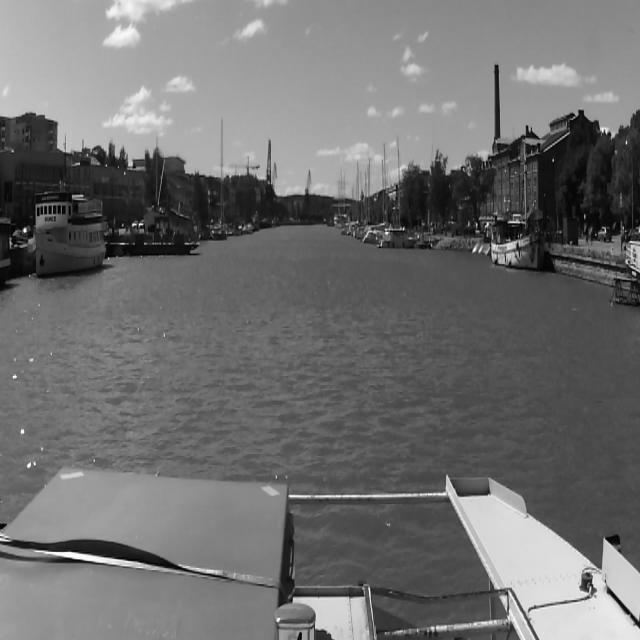ship: (28, 188, 106, 280), (490, 143, 544, 272), (108, 213, 201, 258), (212, 116, 228, 241), (140, 228, 206, 256), (380, 228, 420, 249)
